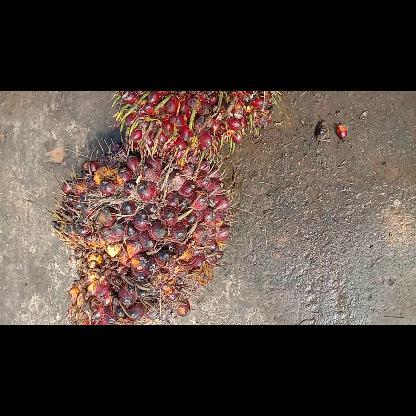Kurang masak: (111, 91, 279, 161)
TBS masak: (51, 136, 235, 324)
